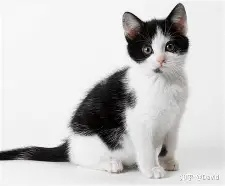奶牛猫: (72, 3, 187, 147)
